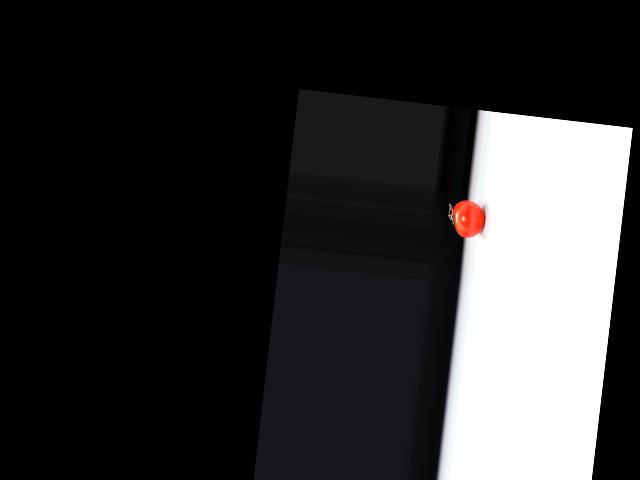tomato: (450, 199, 486, 240)
